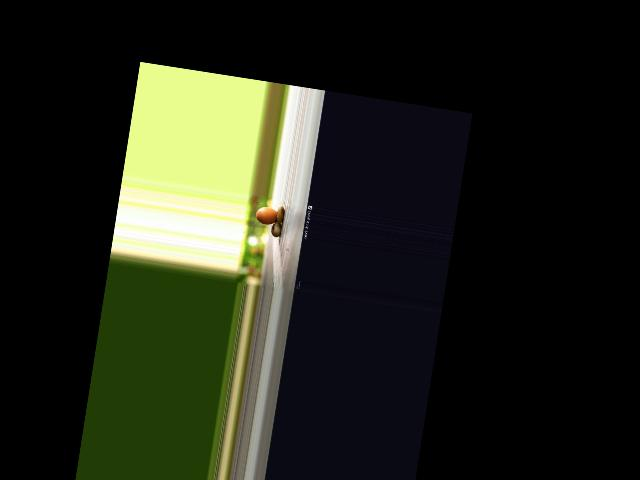egg: (255, 205, 278, 226)
